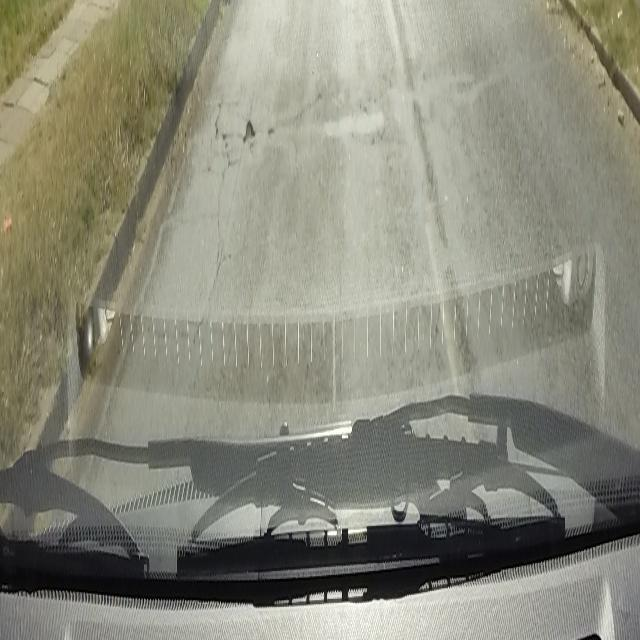pothole: (242, 112, 259, 151)
